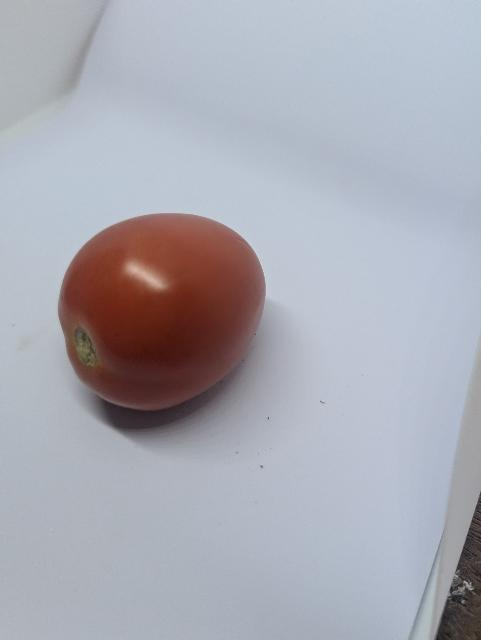red: (56, 205, 272, 431)
